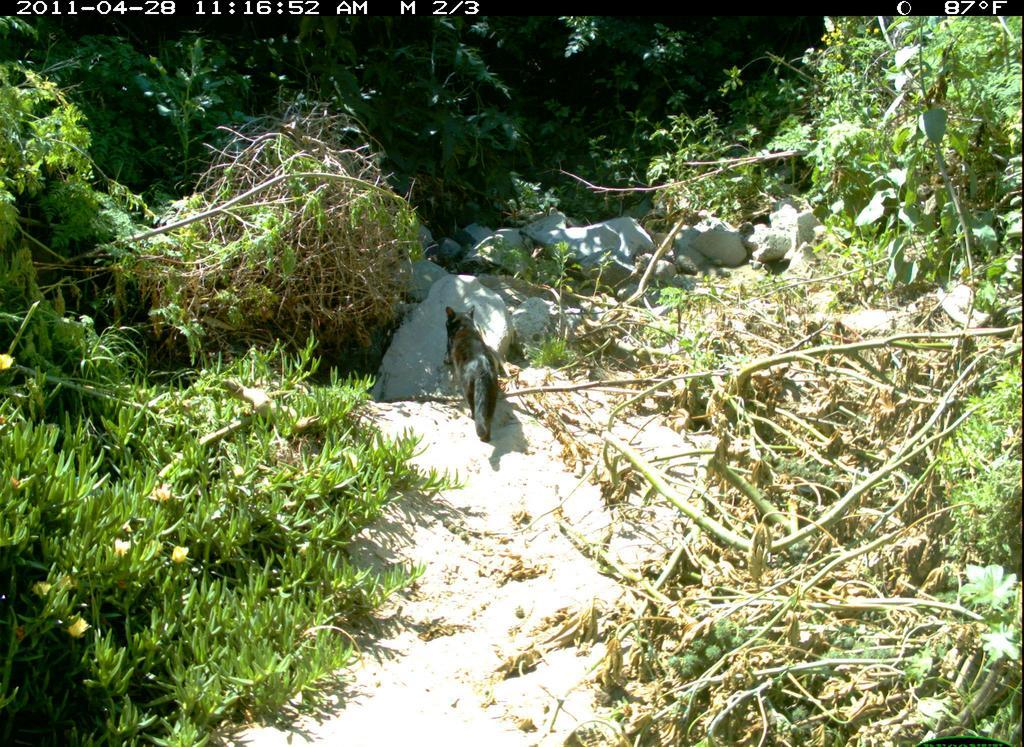cat: (432, 297, 513, 457)
